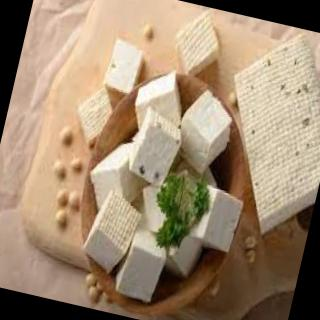Tahu: (39, 1, 320, 320)
